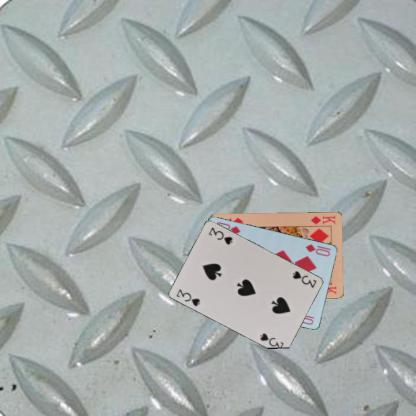10d: (303, 241, 332, 258)
3s: (174, 286, 202, 308), (290, 268, 318, 289)
Kd: (308, 213, 337, 225)
